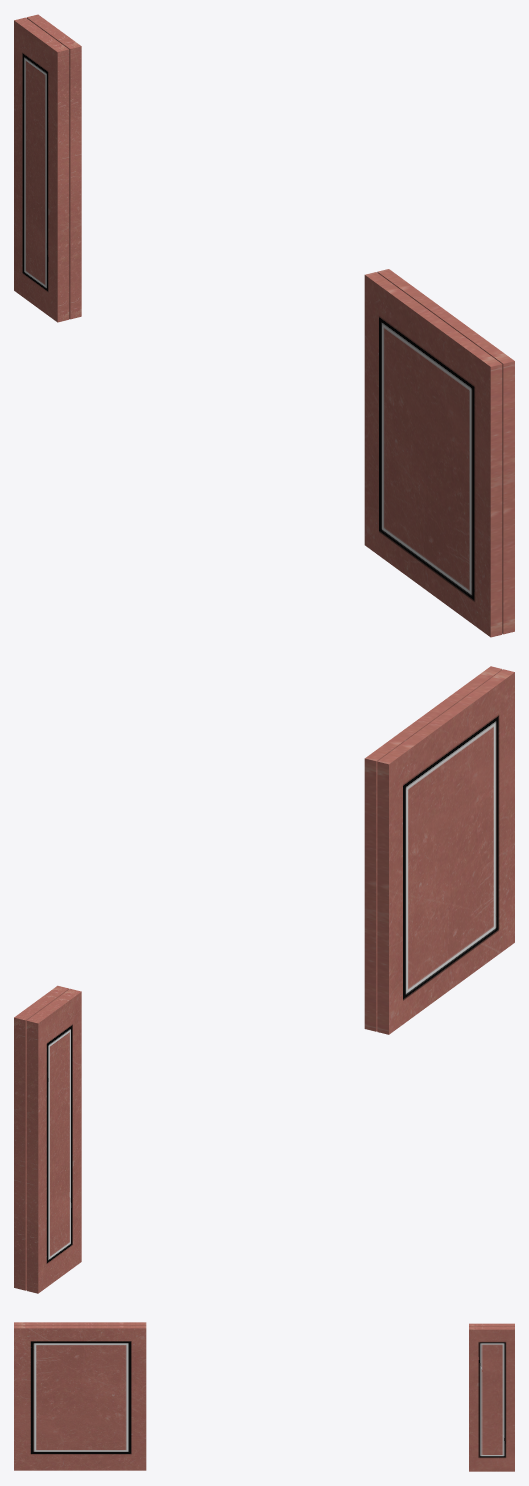
The model's file is SM_SJJ_HG_Wall04F.fbx.
The picture shows the model from 3 angles, top to bottom: view 1: azimuth 30°, elevation 25°; view 2: azimuth 150°, elevation 25°; view 3: azimuth 270°, elevation 25°; orthographic projection. The views are drawn at different scales.
Visible parts, largest first — view 1: SM_SJJ_HG_Wall04F; view 2: SM_SJJ_HG_Wall04F; view 3: SM_SJJ_HG_Wall04F.
Part boxes in pixels (box(x1,y1,x2,y2)): SM_SJJ_HG_Wall04F: box(14, 14, 514, 637); SM_SJJ_HG_Wall04F: box(14, 666, 514, 1293); SM_SJJ_HG_Wall04F: box(14, 1322, 514, 1471).
Bounding box in the file's own units: 7.68 × 262 × 82.68.
Materials: 1 (1 with a texture image).
